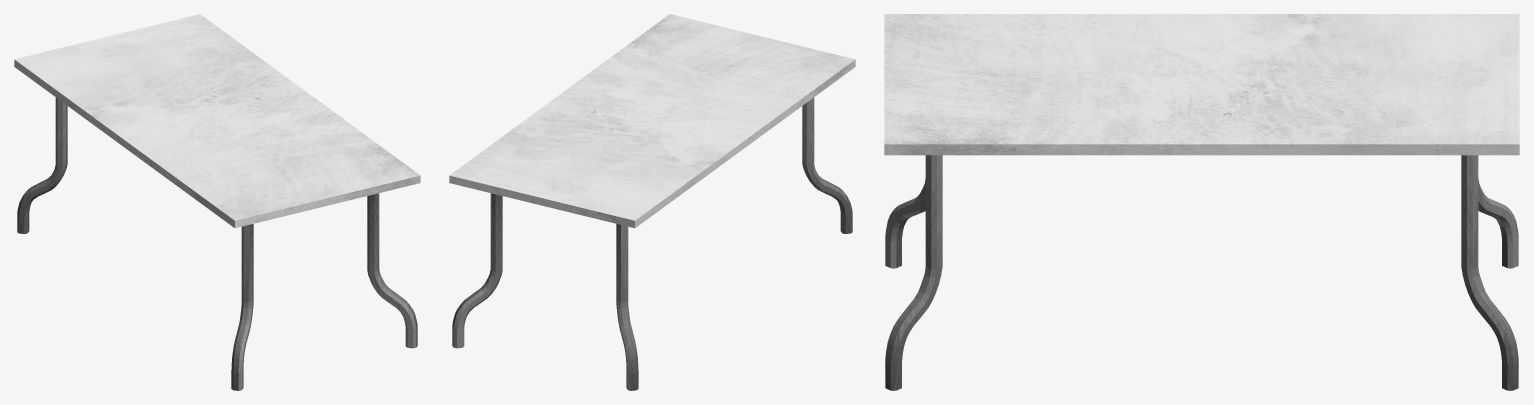
The model's file is TableCabinet.fbx.
The picture shows the model from 3 angles, left to right: view 1: azimuth 30°, elevation 25°; view 2: azimuth 150°, elevation 25°; view 3: azimuth 270°, elevation 25°; orthographic projection. The views are drawn at different scales.
Visible parts, largest first — view 1: Surface, Legs; view 2: Surface, Legs; view 3: Surface, Legs.
Part boxes in pixels (bbox=[...]): Surface: bbox=[14, 14, 420, 228]; Legs: bbox=[17, 97, 417, 390]; Surface: bbox=[449, 14, 855, 228]; Legs: bbox=[452, 97, 852, 390]; Surface: bbox=[884, 14, 1519, 155]; Legs: bbox=[885, 155, 1518, 390].
Size of the model in its own units: 97.25 by 86.25 by 200.
